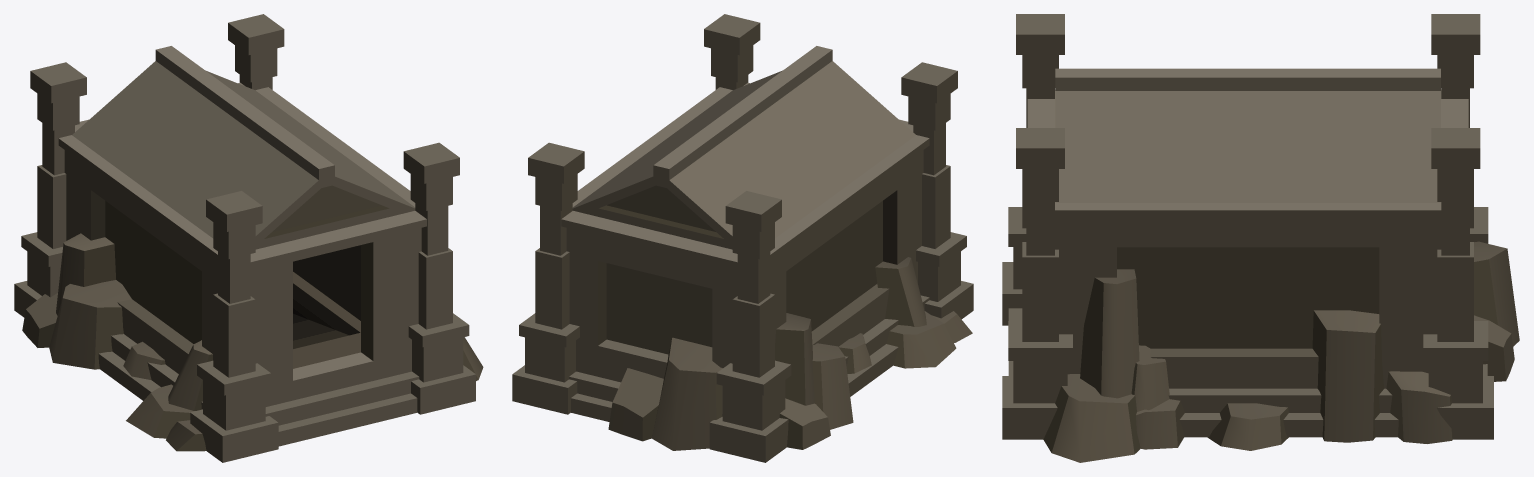
File: SD_Env_Dungeon_Entrance_02.fbx
3 renders of one model, left to right at view 1: azimuth 30°, elevation 25°; view 2: azimuth 150°, elevation 25°; view 3: azimuth 270°, elevation 25°, orthographic. The views are drawn at different scales.
Parts seen in each view (by area): view 1: SD_Env_Dungeon_Entrance_02; view 2: SD_Env_Dungeon_Entrance_02; view 3: SD_Env_Dungeon_Entrance_02.
Part boxes in pixels (x1=…): SD_Env_Dungeon_Entrance_02: x1=14, y1=14, x2=483, y2=462; SD_Env_Dungeon_Entrance_02: x1=512, y1=14, x2=973, y2=462; SD_Env_Dungeon_Entrance_02: x1=1002, y1=14, x2=1519, y2=462.
Size of the model in its own units: 12.32 by 9.07 by 14.45.
